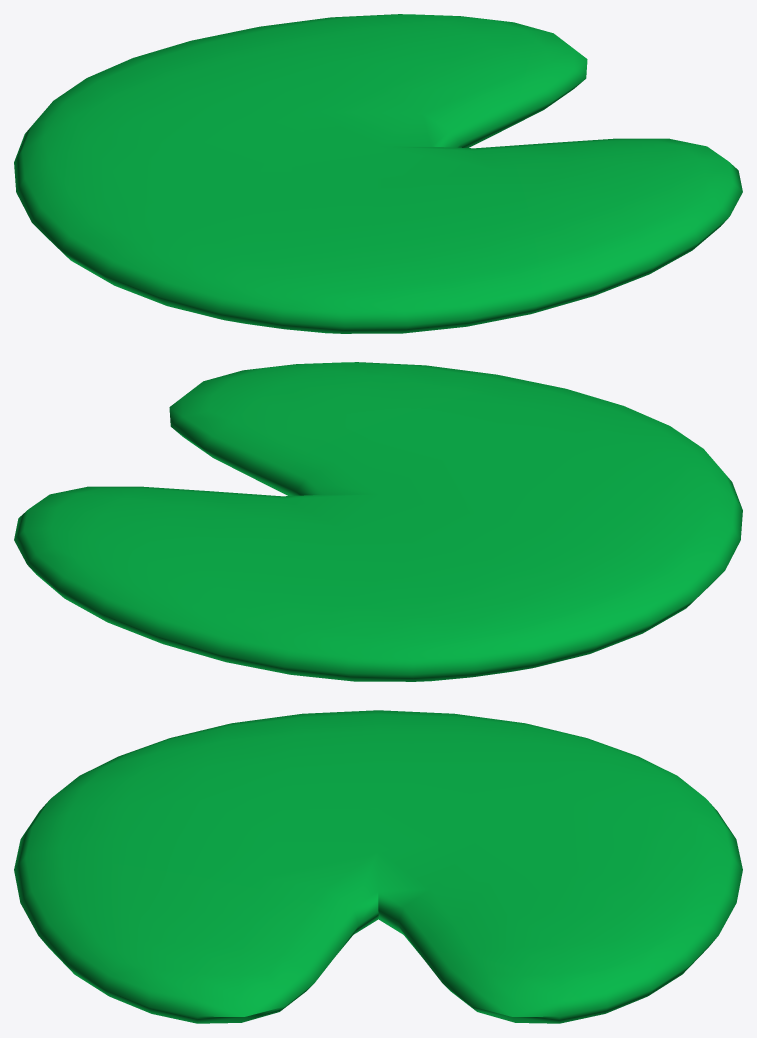
File: Town_15_Water_Leaf_1.glb
3 views of the same model, one above another, from view 1: azimuth 30°, elevation 25°; view 2: azimuth 150°, elevation 25°; view 3: azimuth 270°, elevation 25° (orthographic). The views are drawn at different scales.
Parts seen in each view (by area): view 1: Town_15_Water_Leaf_1; view 2: Town_15_Water_Leaf_1; view 3: Town_15_Water_Leaf_1.
Boxes of the visible parts, x1,y1,x2,y2 form: Town_15_Water_Leaf_1: (14,14,742,333); Town_15_Water_Leaf_1: (14,362,742,681); Town_15_Water_Leaf_1: (14,710,742,1023).
Bounding box in the file's own units: 0.7377 × 0.0739 × 0.76.
1 material, 1 textured.
